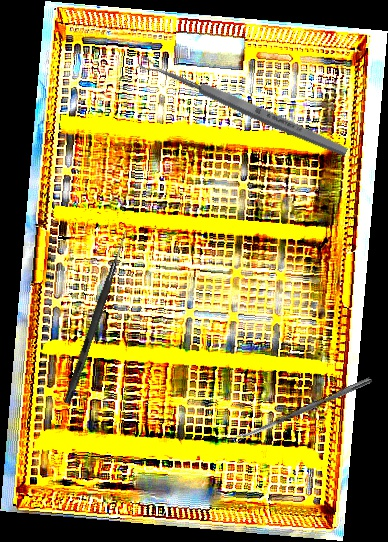Hook Surgical: (63, 228, 130, 405)
Surgical Spoon: (137, 53, 350, 160), (232, 375, 373, 444)
